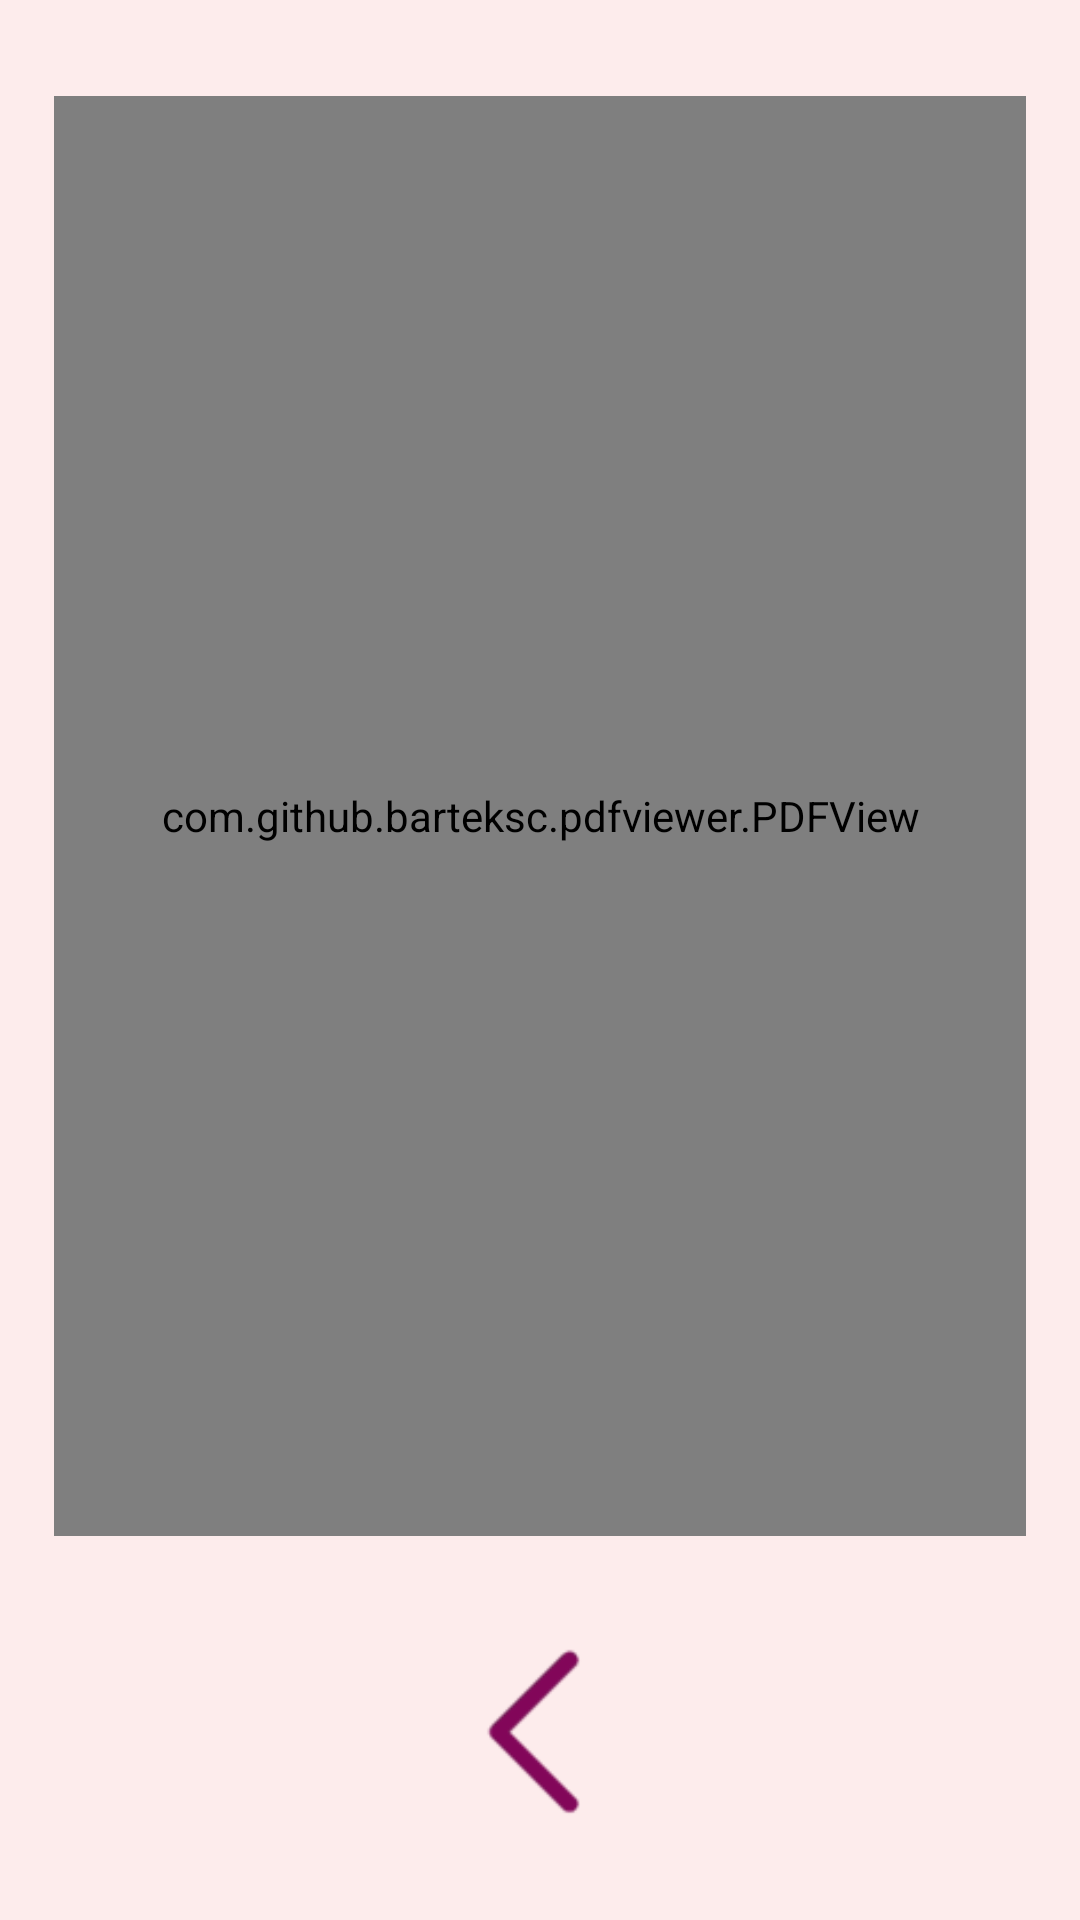

Named icons in this screenshot (1080x1920) and their bounding boxes, BBox(x1, y1, x2, y2):
back: BBox(487, 1650, 580, 1813)
